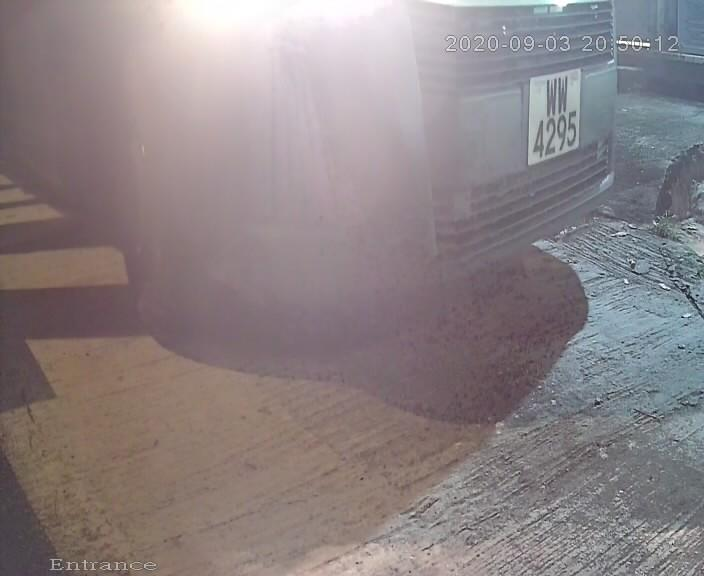License Plate: (519, 52, 591, 175)
